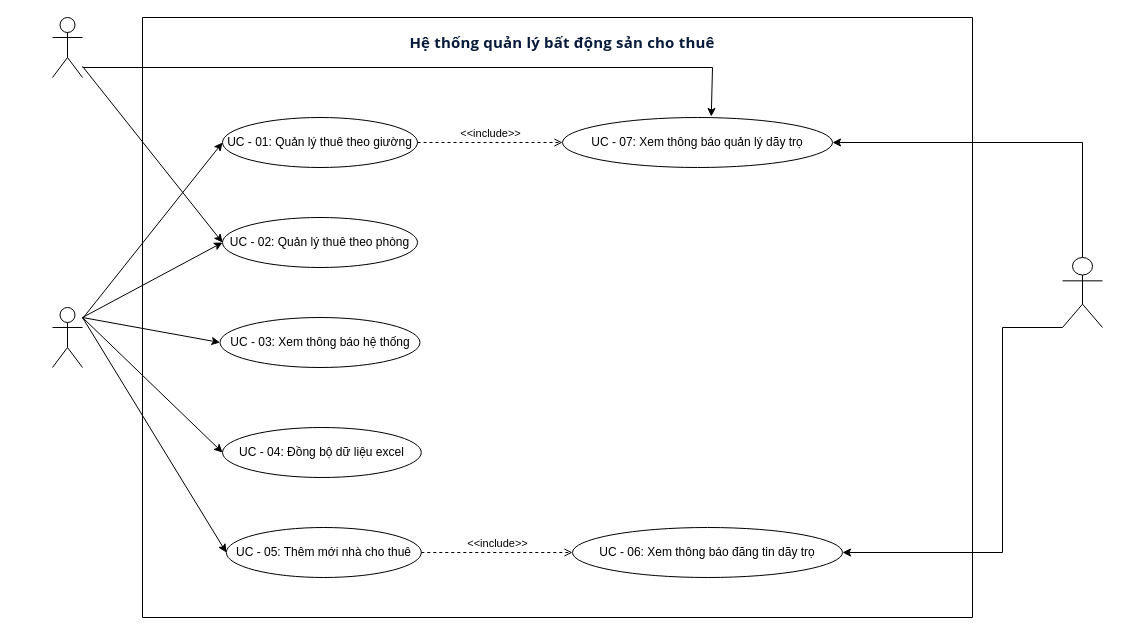
This 1146x635 diagram has some shape labels left out. Here are the shapes that lost their labels. From the top down, the centre of each, then its label:
pixel 67 47: A02 - Chủ sở hữu
pixel 1082 292: A03 - Khách thuê
pixel 67 337: A01 - Quản trị viên
